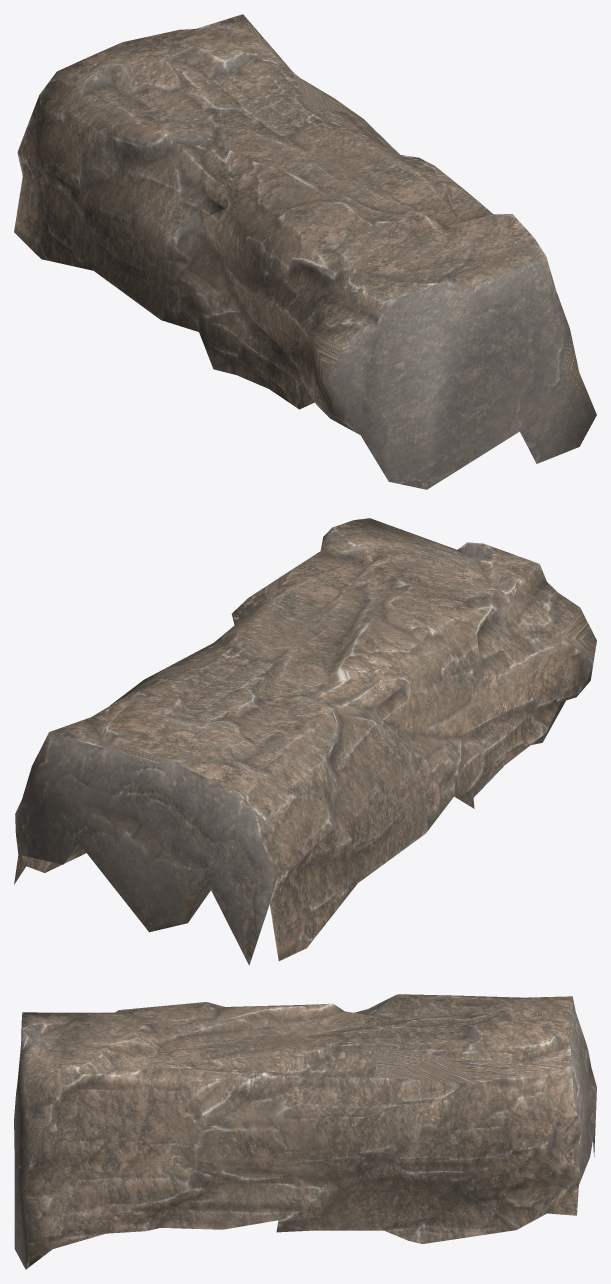
Rendered from Rock02_Shadow.fbx.
3 renders of one model, top to bottom at view 1: azimuth 30°, elevation 25°; view 2: azimuth 150°, elevation 25°; view 3: azimuth 270°, elevation 25°, orthographic. The views are drawn at different scales.
Visible parts, largest first — view 1: Rock02__66_; view 2: Rock02__66_; view 3: Rock02__66_.
Part boxes in pixels (x1=…): Rock02__66_: x1=14, y1=14, x2=596, y2=489; Rock02__66_: x1=14, y1=518, x2=596, y2=965; Rock02__66_: x1=14, y1=994, x2=596, y2=1269.
Size of the model in its own units: 1.01 by 0.7944 by 2.08.
